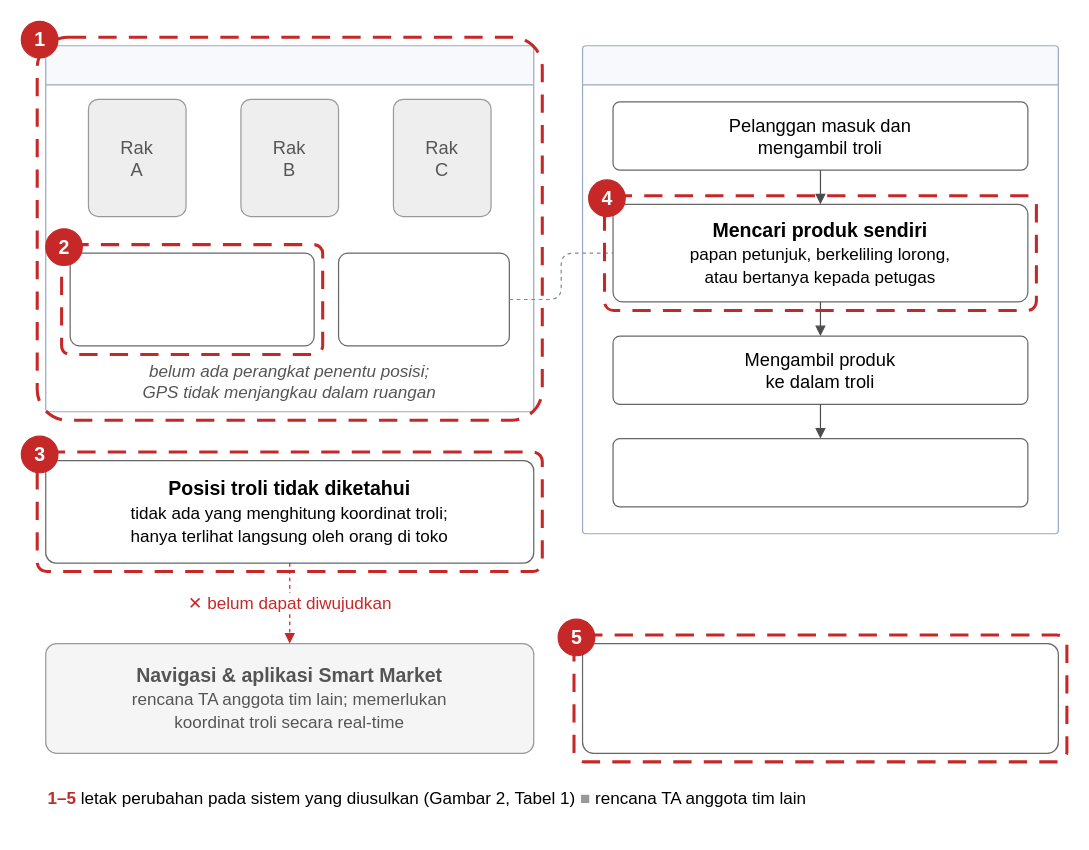
The diagram is 1089 pixels wide and 850 high, and some of its shapes have lost their labels. The box of each missing label's shape, as (x1, y1, x2, y2) in pixels:
Area Smart Market: (45, 45, 534, 412)
Membayar di kasir: (612, 437, 1028, 507)
Papan petunjuk & petugas: (337, 252, 509, 346)
Pengelola toko tidak ada peta maupun pemantauan posisi troli: (581, 642, 1058, 753)
Proses belanja saat ini: (581, 45, 1058, 534)
Troli belanja biasa didorong pelanggan, tanpa perangkat elektronik: (69, 252, 314, 346)
